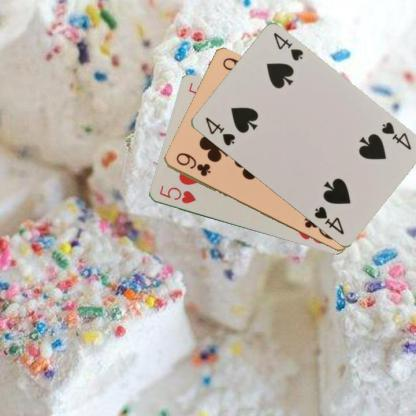4s: (202, 114, 236, 148), (378, 119, 412, 151)
5h: (156, 183, 196, 205)
9c: (173, 150, 211, 178)
